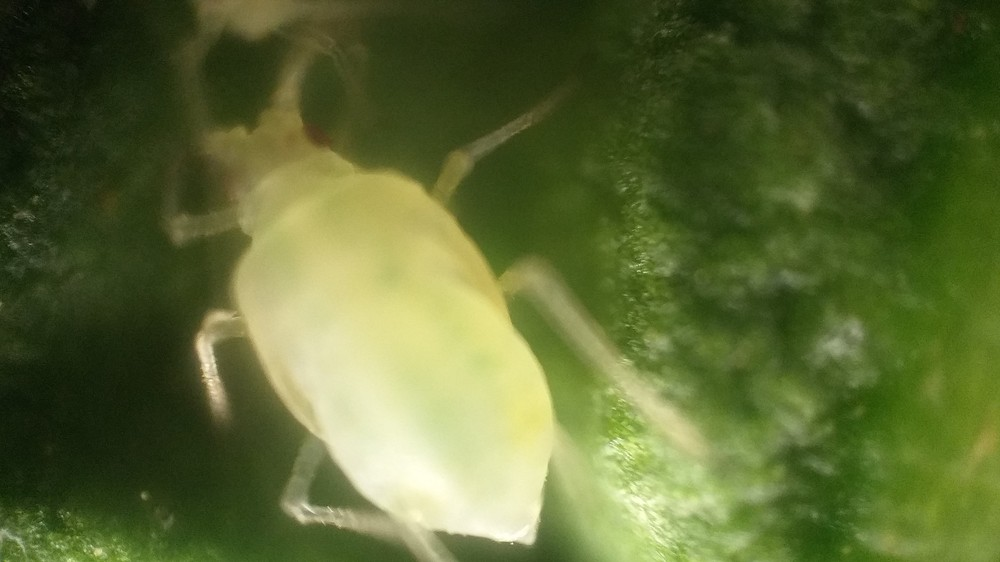Pulgon: (119, 12, 712, 554)
